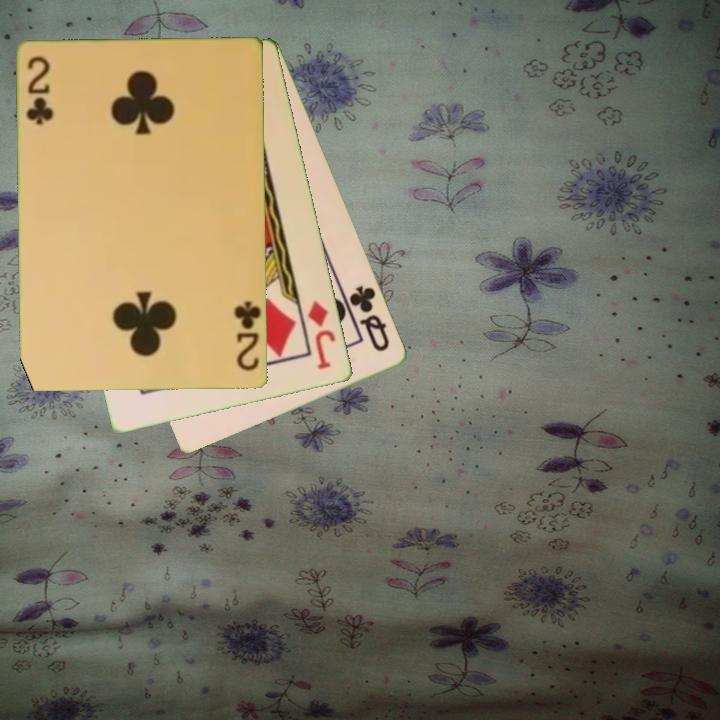2c: (231, 297, 263, 374), (23, 53, 55, 128)
Jd: (304, 297, 339, 373)
Qc: (346, 282, 393, 355)
